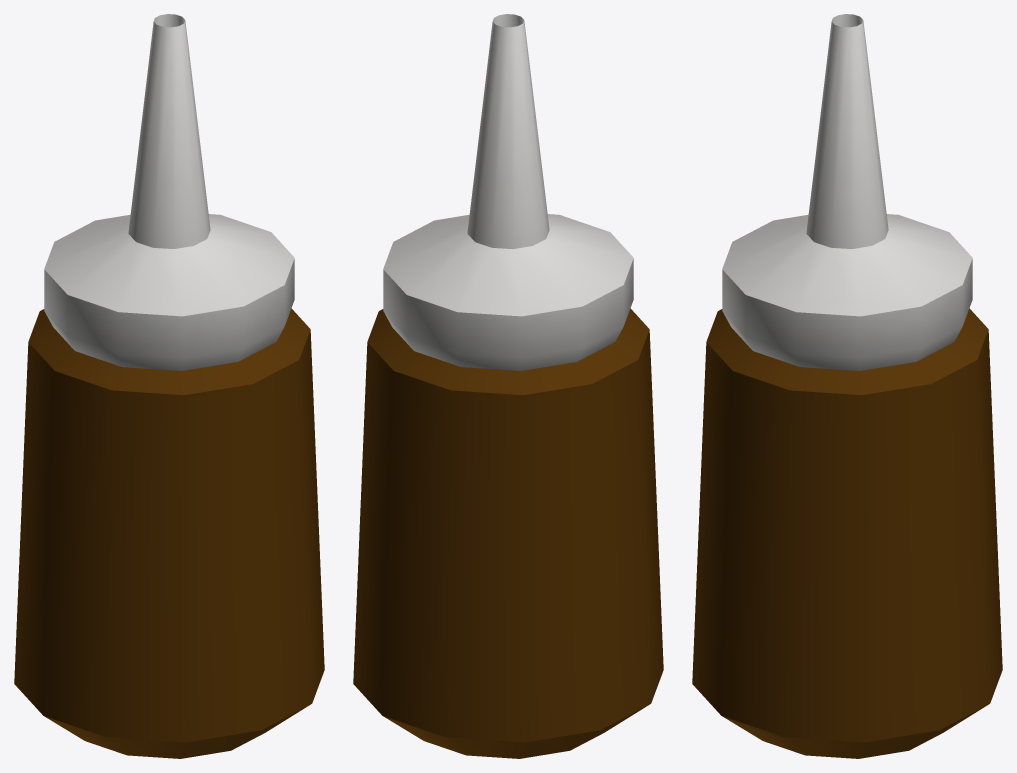
The model's file is BBQSauce.fbx.
The picture shows the model from 3 angles, left to right: view 1: azimuth 30°, elevation 25°; view 2: azimuth 150°, elevation 25°; view 3: azimuth 270°, elevation 25°; orthographic projection.
Visible parts, largest first — view 1: BBQSauce; view 2: BBQSauce; view 3: BBQSauce.
Part boxes in pixels (x1,y1,x2,y2): BBQSauce: (14, 14, 324, 758); BBQSauce: (353, 14, 663, 758); BBQSauce: (692, 14, 1002, 758).
Size of the model in its own units: 10.63 by 26.23 by 10.63.
